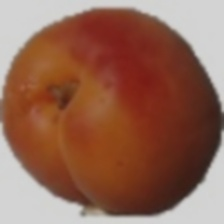apricot: (13, 41, 203, 199)
